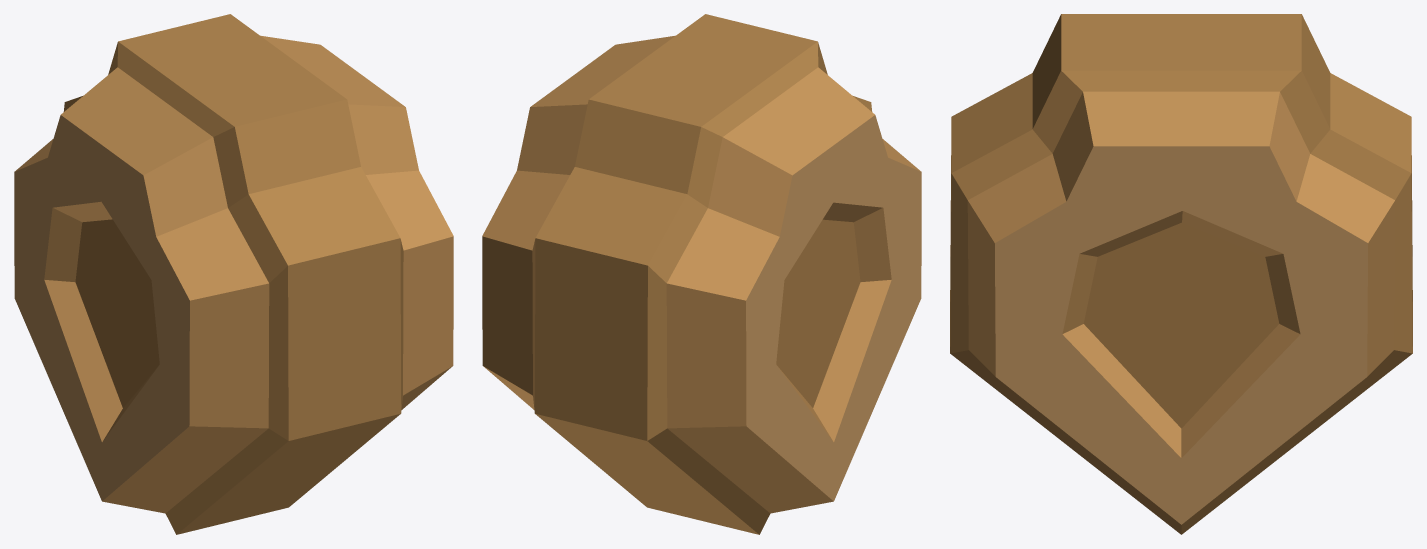
Rendered from SM_Bld_Roof_Trim_Cap_02.fbx.
3 renders of one model, left to right at view 1: azimuth 30°, elevation 25°; view 2: azimuth 150°, elevation 25°; view 3: azimuth 270°, elevation 25°, orthographic. The views are drawn at different scales.
Parts seen in each view (by area): view 1: SM_Bld_Roof_Trim_Cap_02; view 2: SM_Bld_Roof_Trim_Cap_02; view 3: SM_Bld_Roof_Trim_Cap_02.
Part boxes in pixels (x1,y1,x2,y2): SM_Bld_Roof_Trim_Cap_02: [14, 14, 453, 534]; SM_Bld_Roof_Trim_Cap_02: [482, 14, 921, 534]; SM_Bld_Roof_Trim_Cap_02: [950, 14, 1412, 534].
Bounding box in the file's own units: 37.08 × 61.15 × 55.22.
